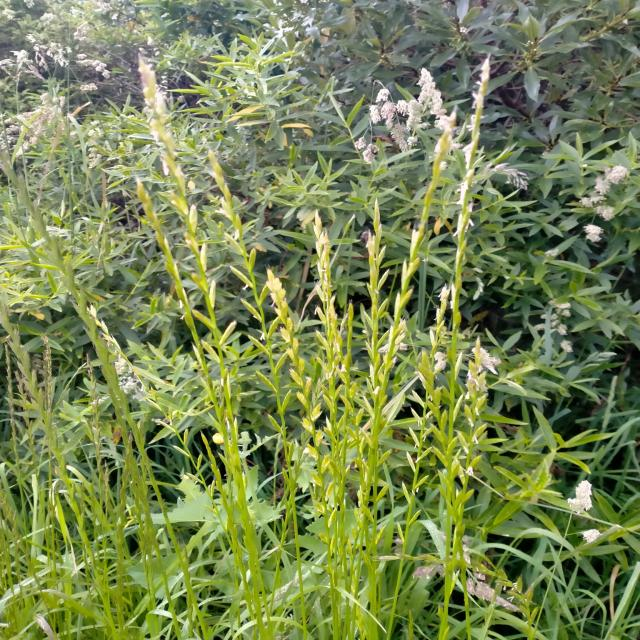Lolium: (146, 67, 269, 640), (433, 64, 498, 640), (138, 180, 240, 538), (262, 278, 356, 638), (198, 145, 296, 486), (364, 215, 429, 640)
